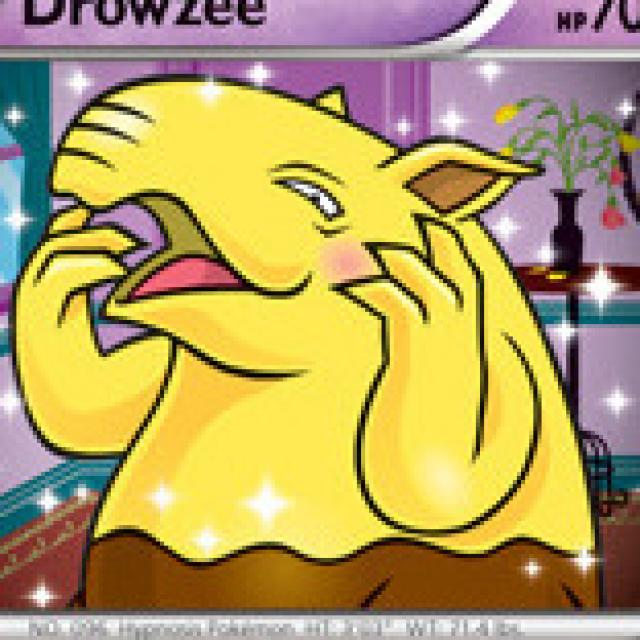Drowzee: (8, 71, 606, 610)
